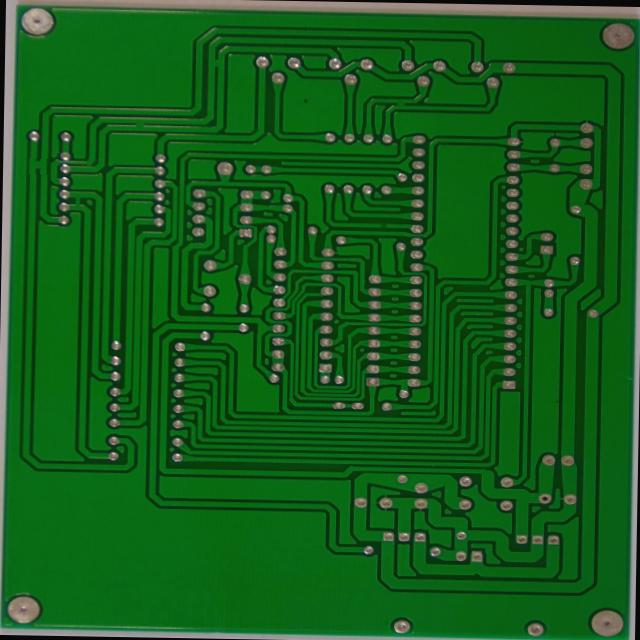short: (209, 55, 231, 72), (28, 157, 48, 174), (132, 117, 152, 133), (72, 193, 88, 211), (401, 98, 416, 110)
